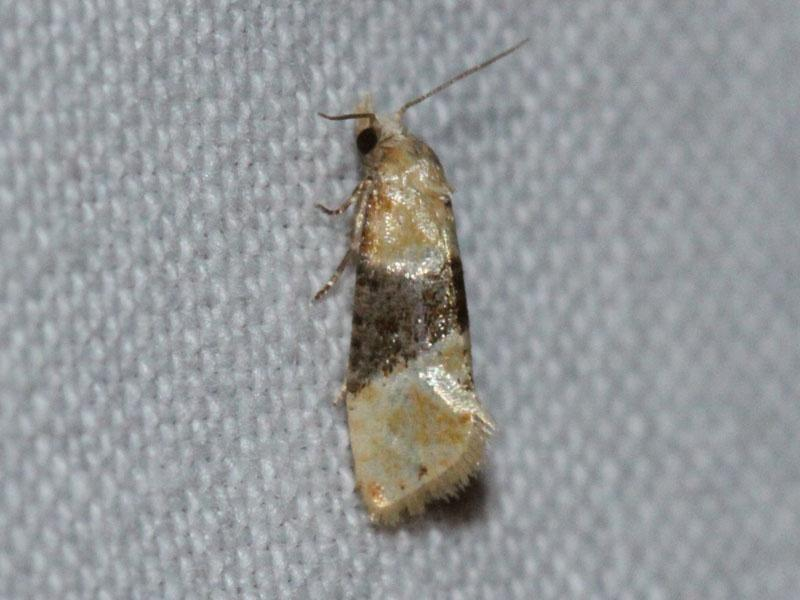Eupoecilia Ambiguella: (306, 33, 534, 530)
